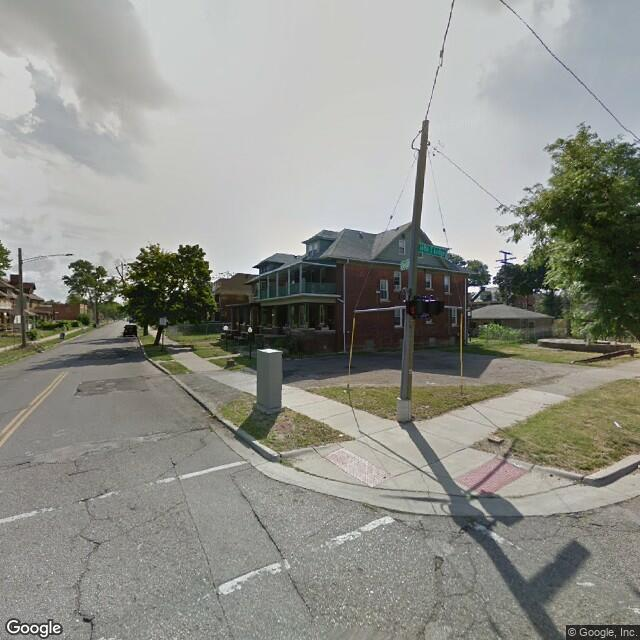litter: (612, 419, 624, 433), (335, 431, 344, 438), (342, 387, 347, 394)
